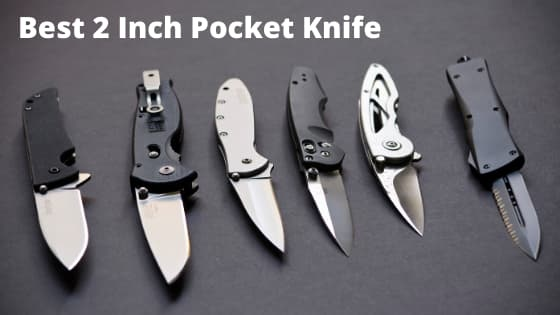knife: (444, 54, 540, 263), (128, 68, 200, 286), (284, 66, 354, 258), (21, 85, 92, 272), (212, 76, 286, 253), (357, 62, 426, 238)
